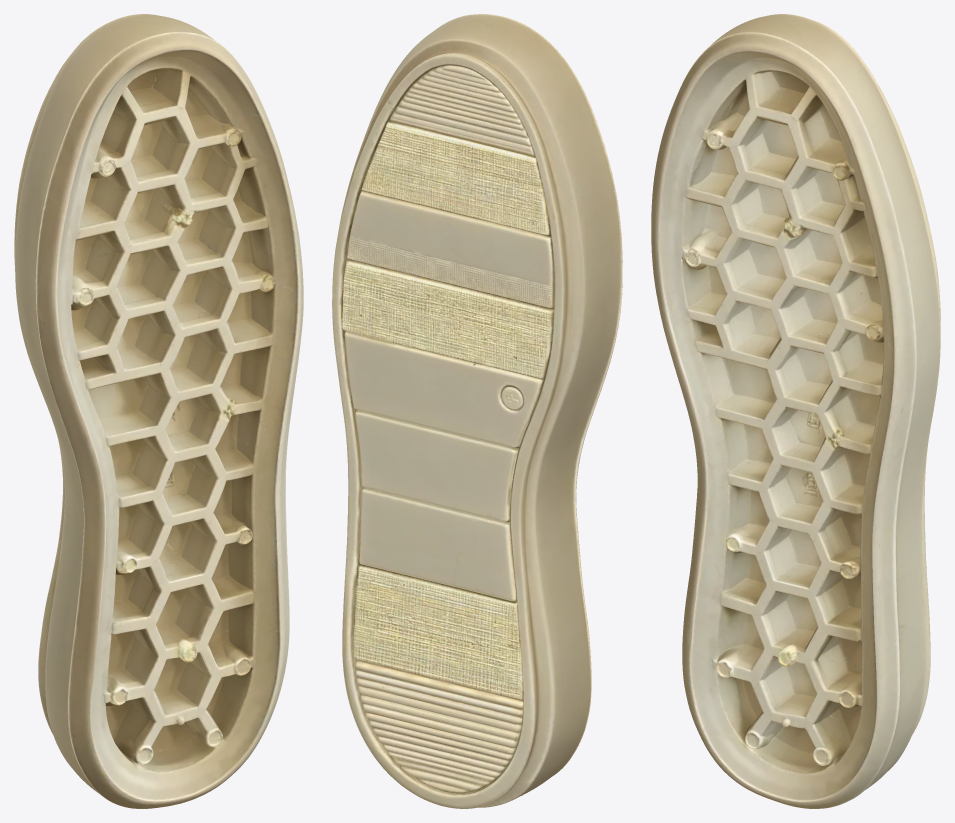
The picture shows the model from 3 angles, left to right: view 1: azimuth 30°, elevation 25°; view 2: azimuth 150°, elevation 25°; view 3: azimuth 330°, elevation 25°; orthographic projection.
Parts seen in each view (by area): view 1: model; view 2: model; view 3: model.
Boxes of the visible parts, x1,y1,x2,y2 form: model: (14, 14, 303, 808); model: (332, 14, 622, 808); model: (651, 14, 940, 808).
Bounding box in the file's own units: 0.6844 × 1.9 × 0.2427.
1 material, 1 textured.
